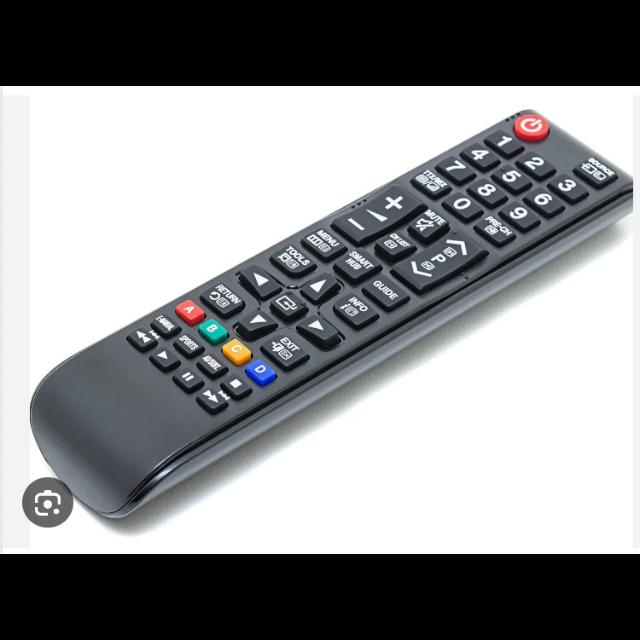TV-Remote-Control: (29, 110, 634, 524)
